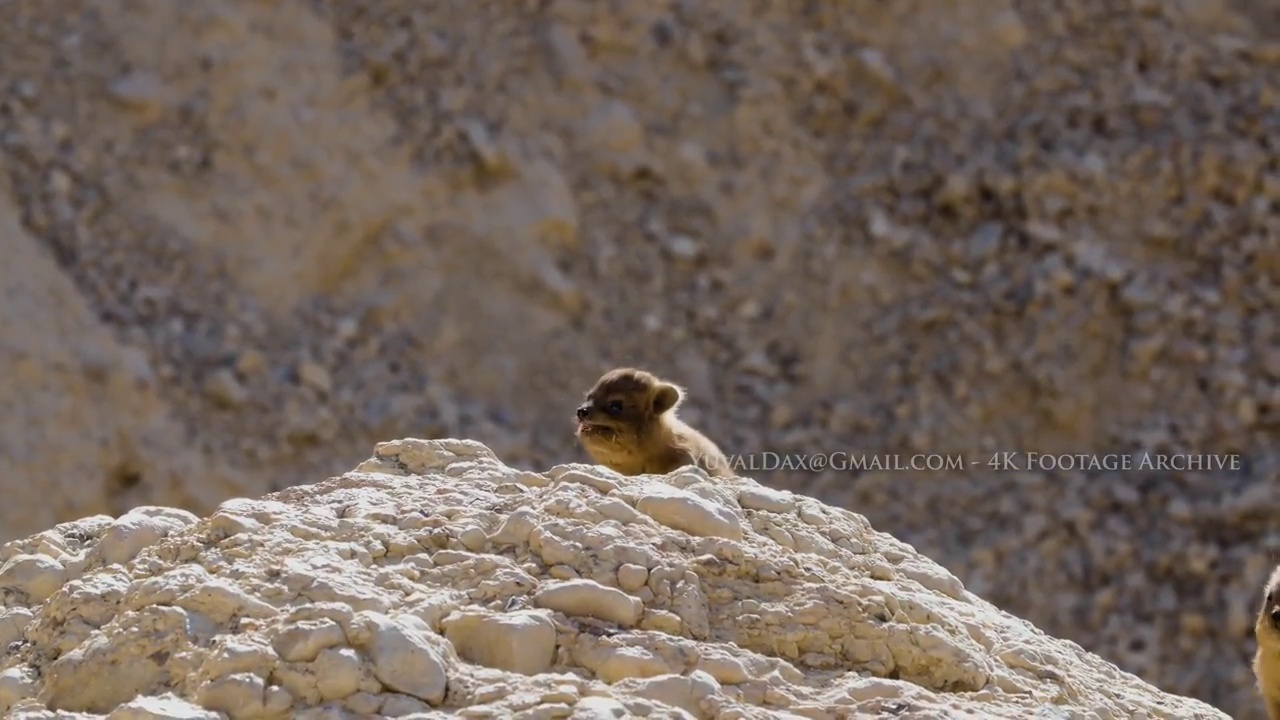Rock Hyrex: (574, 367, 742, 484)
